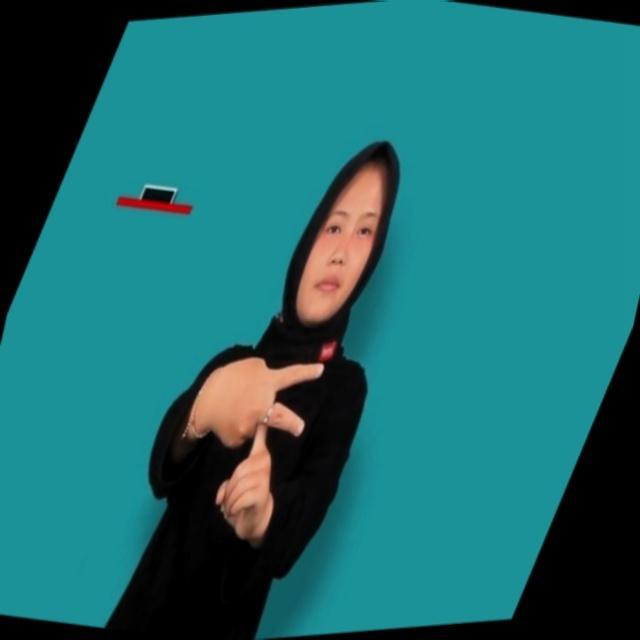F: (194, 350, 330, 537)
